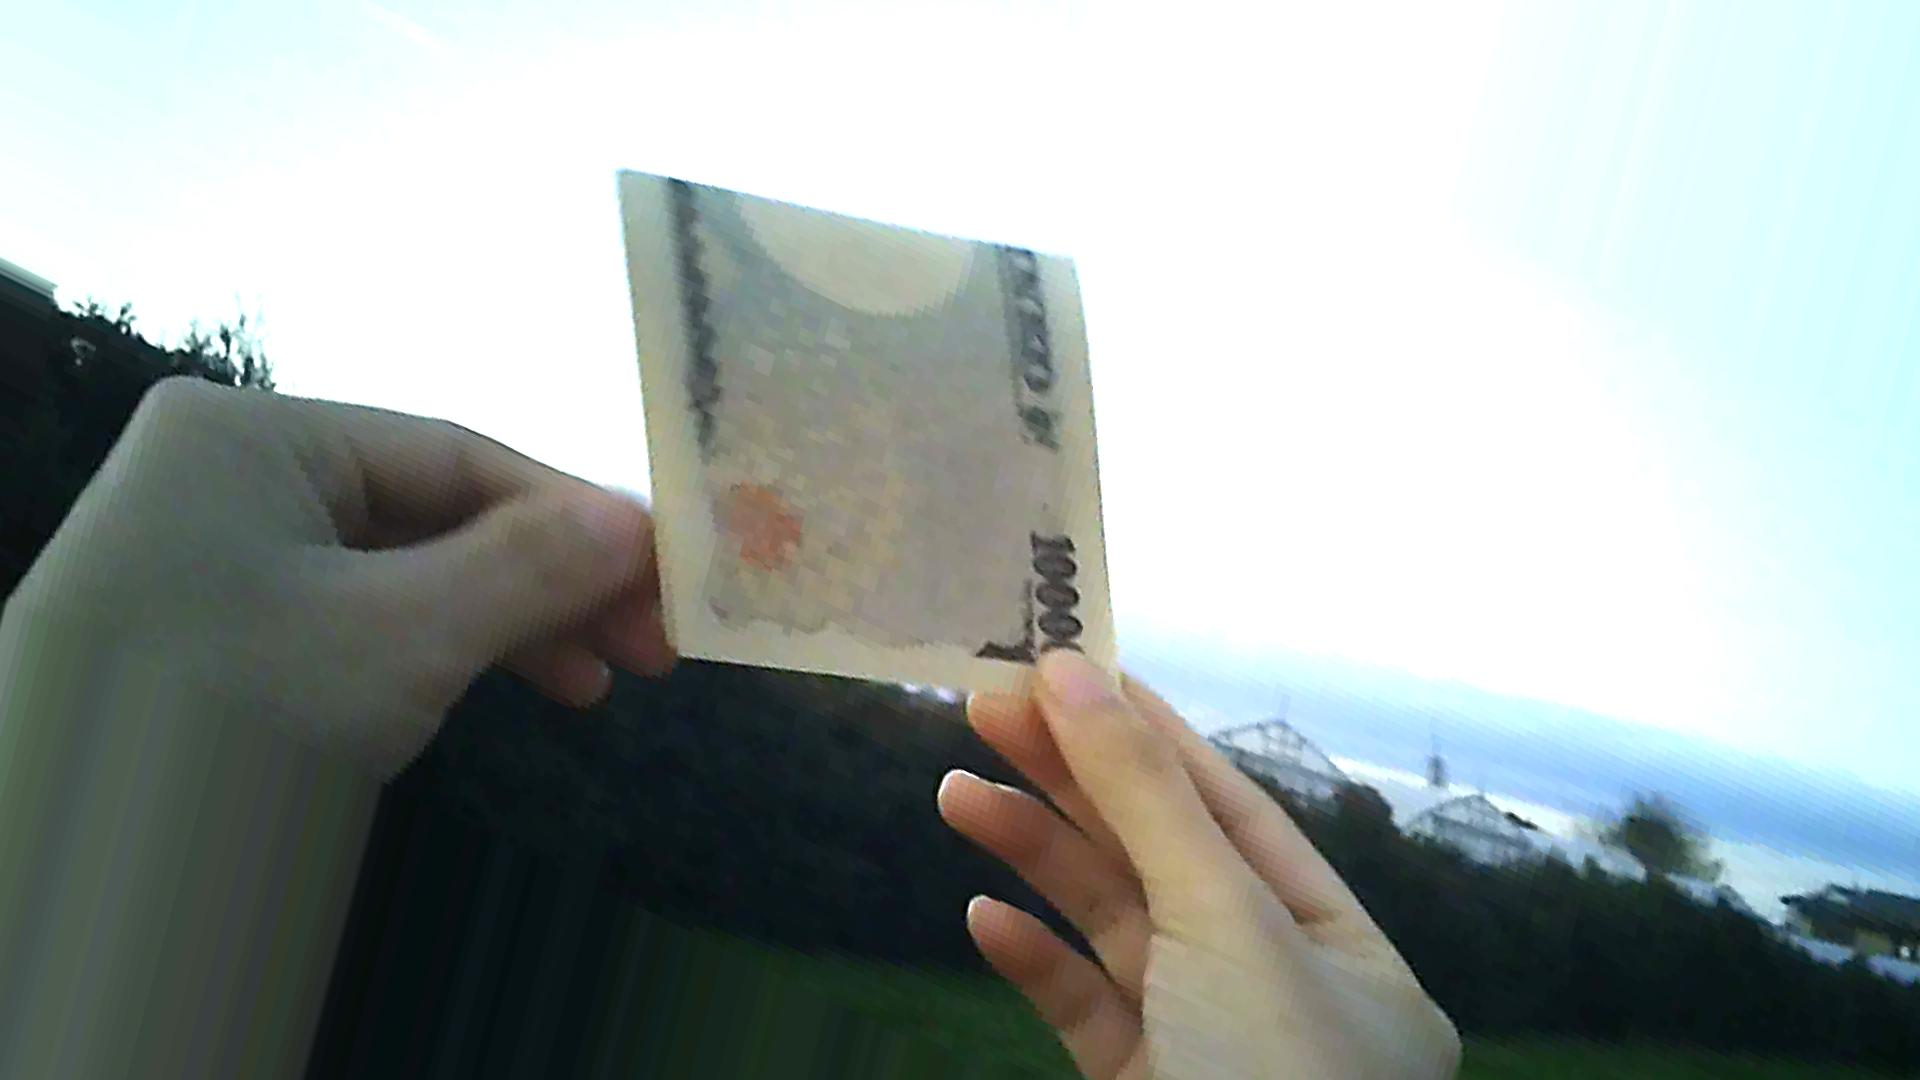10,000 Yen: (582, 138, 1135, 737)
